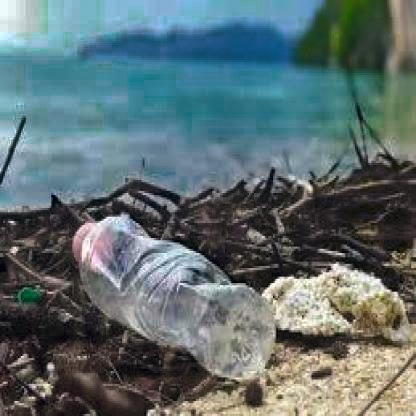pbottle: (64, 212, 276, 380)
